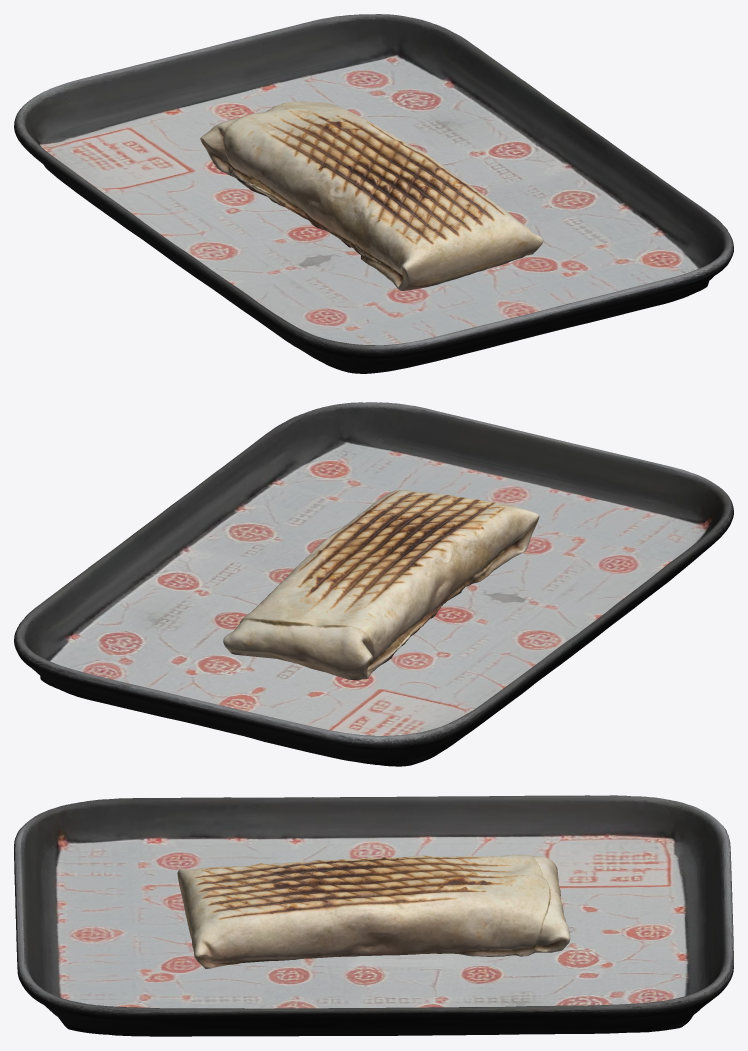
File: Tacos.XL.glb
3 renders of one model, top to bottom at view 1: azimuth 30°, elevation 25°; view 2: azimuth 150°, elevation 25°; view 3: azimuth 270°, elevation 25°, orthographic.
Visible parts, largest first — view 1: /Root/Scenes/Scene/Object_189/Object_193/Object_194/Submesh_, /Root/Scenes/Scene/Object_189/Object_190/Submesh_0; view 2: /Root/Scenes/Scene/Object_189/Object_193/Object_194/Submesh_, /Root/Scenes/Scene/Object_189/Object_190/Submesh_0; view 3: /Root/Scenes/Scene/Object_189/Object_193/Object_194/Submesh_, /Root/Scenes/Scene/Object_189/Object_190/Submesh_0.
Boxes of the visible parts, bbox=[...] form: /Root/Scenes/Scene/Object_189/Object_193/Object_194/Submesh_: bbox=[14, 14, 733, 373]; /Root/Scenes/Scene/Object_189/Object_190/Submesh_0: bbox=[200, 101, 543, 290]; /Root/Scenes/Scene/Object_189/Object_193/Object_194/Submesh_: bbox=[14, 402, 733, 766]; /Root/Scenes/Scene/Object_189/Object_190/Submesh_0: bbox=[223, 490, 539, 680]; /Root/Scenes/Scene/Object_189/Object_193/Object_194/Submesh_: bbox=[14, 795, 733, 1036]; /Root/Scenes/Scene/Object_189/Object_190/Submesh_0: bbox=[177, 854, 570, 968].
Bounding box in the file's own units: 0.335 × 0.047 × 0.4714.
2 materials, 2 textured.
